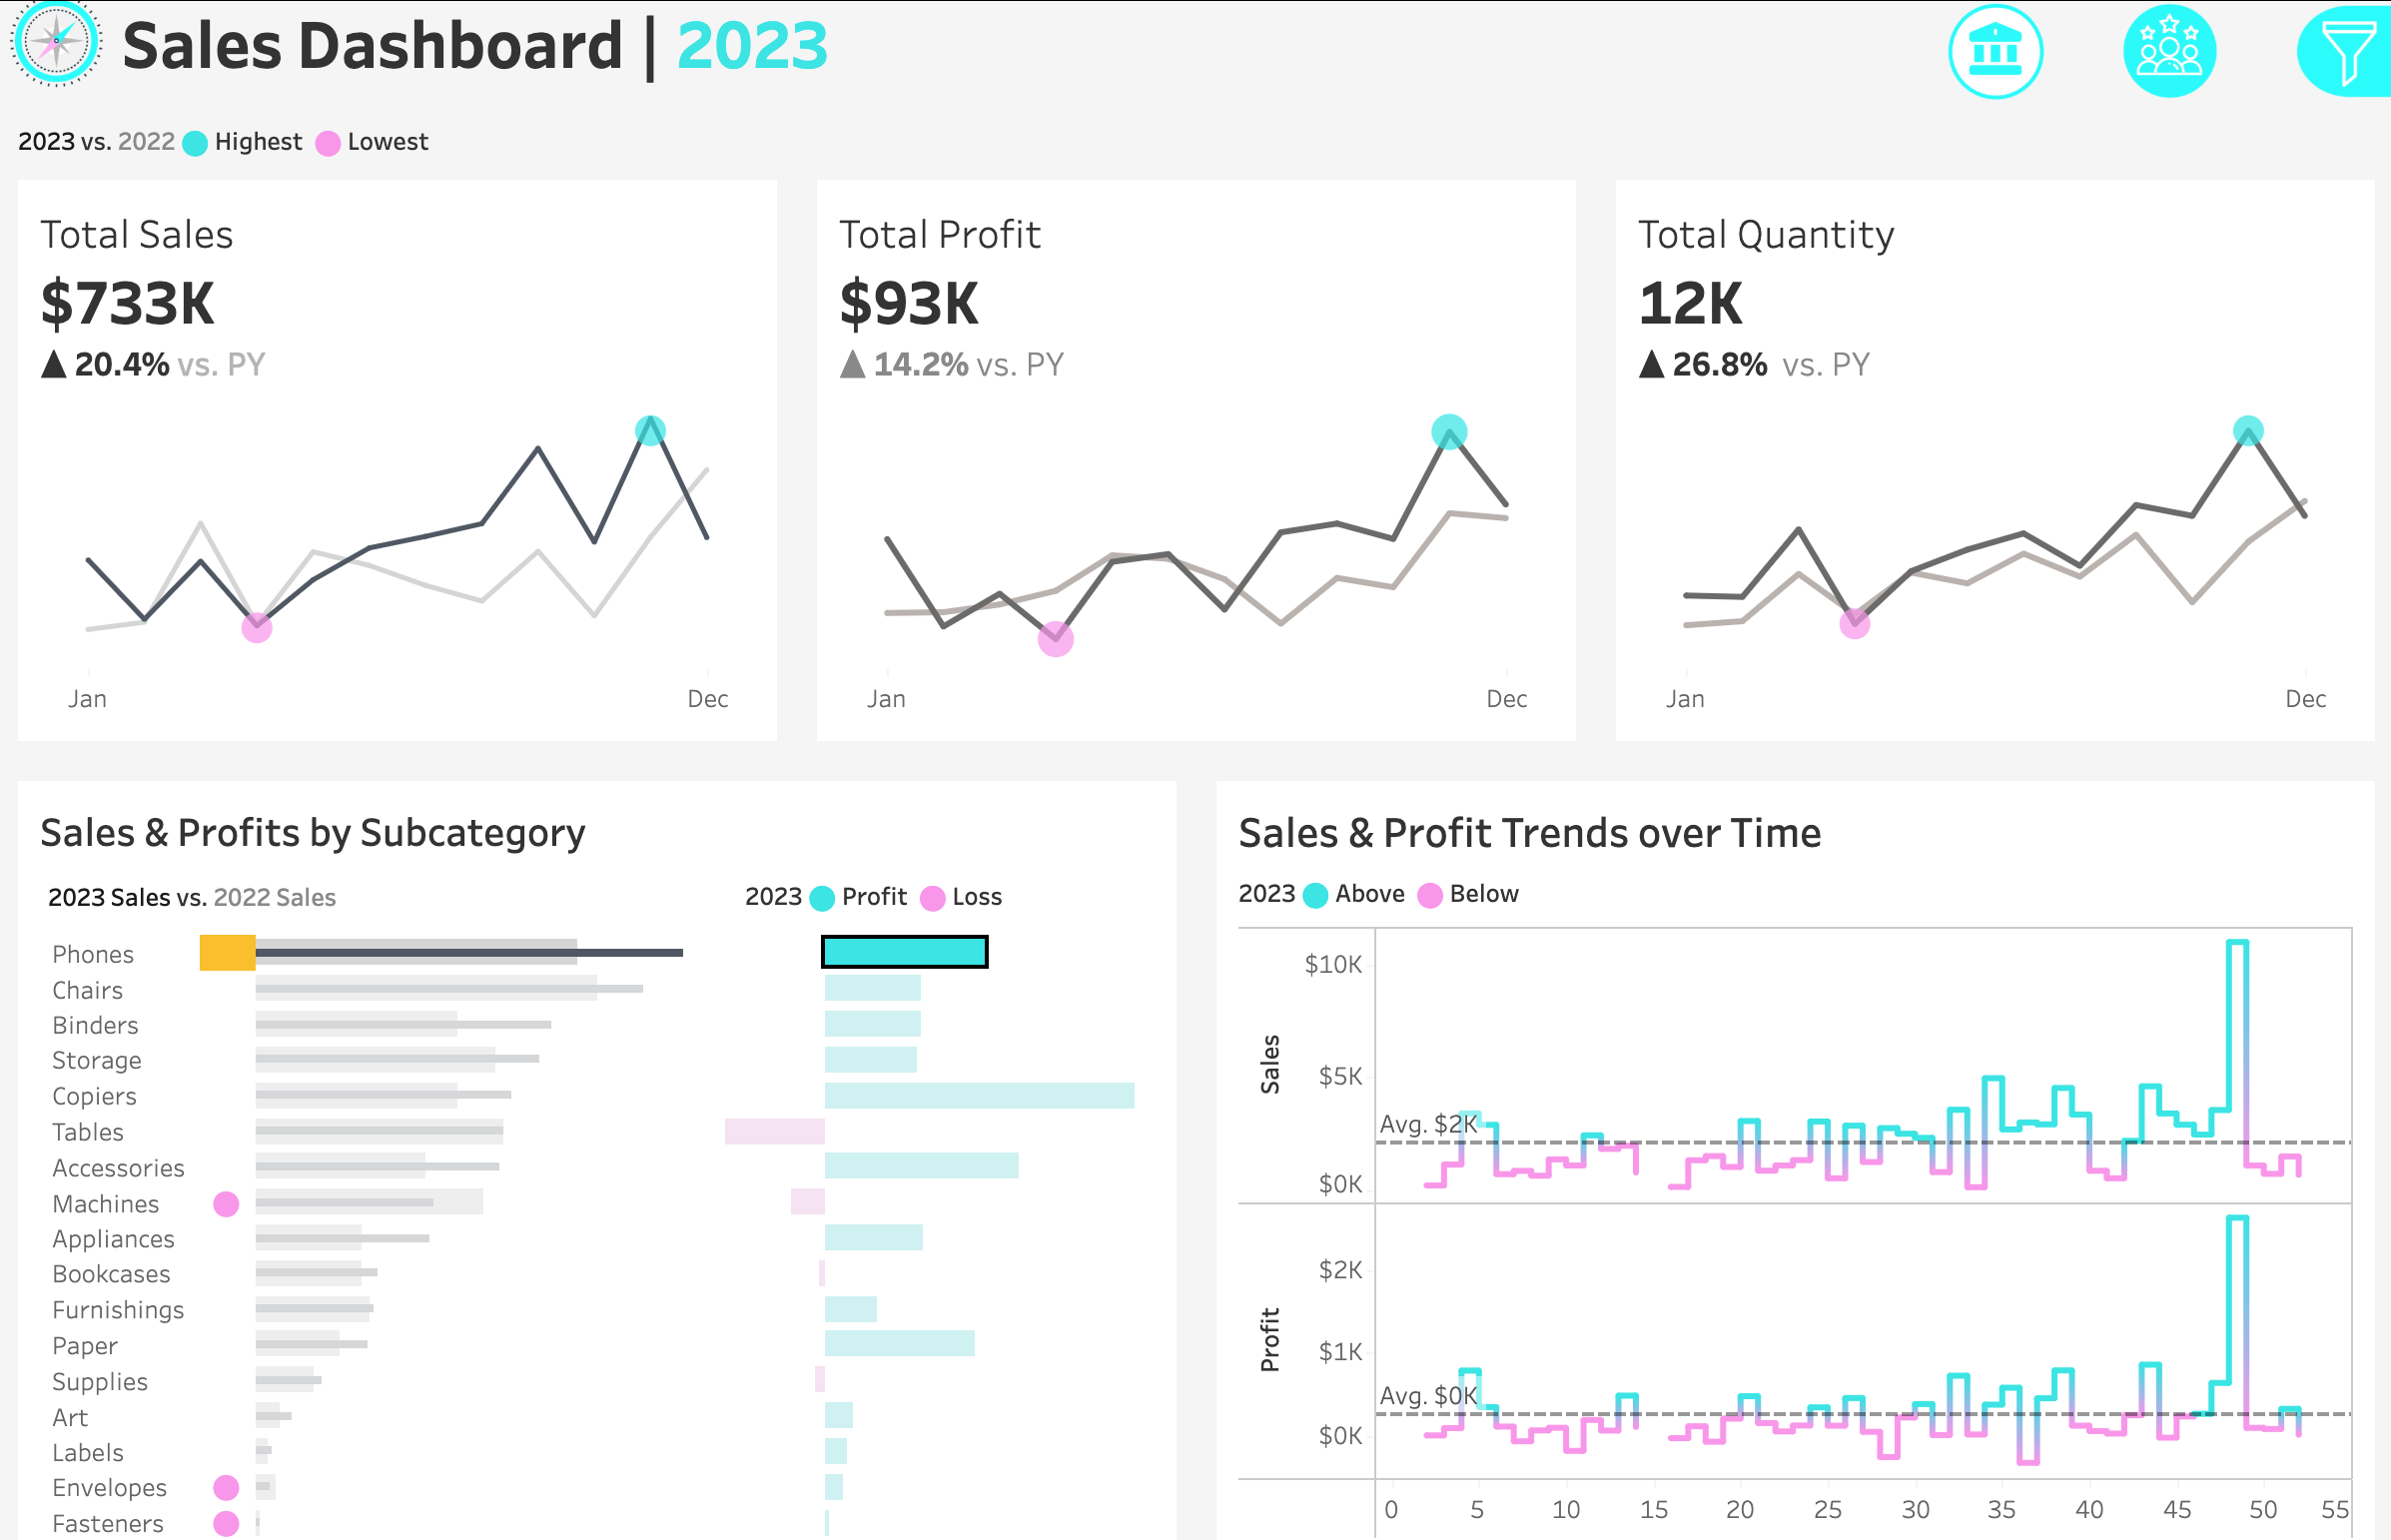

The dashboard page shown, as its layout file describes it:
{"tool":"tableau","page":{"name":"Sales Dashboard","canvas":[1200,800],"ordinal":1},"visuals":[{"type":"image","param":"Image/Icon - Logo.png","box":[0,0,73,59]},{"type":"text","box":[73,0,820,59]},{"type":"dashboard-object","box":[940,6,91,70]},{"type":"dashboard-object","box":[1031,6,91,70]},{"type":"blank","box":[952,10,237,86]},{"type":"worksheet","title":"Legend KPI","mark":"Automatic","box":[0,59,1200,29]},{"type":"worksheet","title":"KPI Sales","mark":"Automatic","rows":["Calculation_721701895347843083"],"cols":["Order Date"],"box":[0,88,400,284]},{"type":"worksheet","title":"KPI Profit","mark":"Automatic","rows":["Min/Max Sales (copy)_237846410425847814"],"cols":["Order Date"],"box":[400,88,400,284]},{"type":"worksheet","title":"KPI Quantity","mark":"Automatic","rows":["Min/Max Sales (copy) (copy)_237846410425856007"],"cols":["Order Date"],"box":[800,88,400,284]},{"type":"text","box":[952,96,237,37]},{"type":"parameter","param":"[Parameters].[Parameter 1]","box":[952,133,237,55]},{"type":"text","box":[952,188,237,32]},{"type":"filter","title":"KPI Sales","param":"[federated.1kpxa041aiai2y1cl4pui1t4eju9].[none:Category:nk]","box":[952,220,237,57]},{"type":"filter","title":"KPI Sales","param":"[federated.1kpxa041aiai2y1cl4pui1t4eju9].[none:Sub-Category:nk]","box":[952,277,237,57]},{"type":"blank","box":[952,334,237,60]},{"type":"text","box":[17,389,566,34]},{"type":"text","box":[617,389,566,34]},{"type":"text","box":[952,394,237,32]},{"type":"worksheet","title":"Legend Subcategory","mark":"Automatic","box":[17,423,374,32]},{"type":"text","box":[391,423,192,32]},{"type":"text","box":[617,423,566,27]},{"type":"filter","title":"KPI Sales","param":"[federated.1kpxa041aiai2y1cl4pui1t4eju9].[none:Region:nk]","box":[952,426,237,57]},{"type":"worksheet","title":"Weekly Trends","mark":"Automatic","rows":["Calculation_721701895334993921","CY Sales (copy)_237846410424180736"],"cols":["Order Date"],"box":[617,450,566,333]},{"type":"worksheet","title":"Subcategory Comparison","mark":"Bar","rows":["Sub-Category","Calculation_2435040078806671369"],"cols":["CY Sales (copy)_721701895335804930","Calculation_721701895334993921","CY Sales (copy)_237846410424180736"],"box":[17,455,566,327.9]},{"type":"filter","title":"KPI Sales","param":"[federated.1kpxa041aiai2y1cl4pui1t4eju9].[none:State:nk]","box":[952,483,237,57]},{"type":"filter","title":"KPI Sales","param":"[federated.1kpxa041aiai2y1cl4pui1t4eju9].[none:City:nk]","box":[952,540,237,57]}]}

Visuals, with their boxes on the page's 1200x800 design canvas (x1, y1, x2, y2). These are canvas units, not pixel positions in the 2391x1540 screenshot, which may show the page scaled, cropped or inside an application window:
image: <bbox>0, 0, 73, 59</bbox>
text: <bbox>73, 0, 893, 59</bbox>
dashboard-object: <bbox>940, 6, 1031, 76</bbox>
dashboard-object: <bbox>1031, 6, 1122, 76</bbox>
blank: <bbox>952, 10, 1189, 96</bbox>
"Legend KPI" worksheet: <bbox>0, 59, 1200, 88</bbox>
"KPI Sales" worksheet: <bbox>0, 88, 400, 372</bbox>
"KPI Profit" worksheet: <bbox>400, 88, 800, 372</bbox>
"KPI Quantity" worksheet: <bbox>800, 88, 1200, 372</bbox>
text: <bbox>952, 96, 1189, 133</bbox>
parameter: <bbox>952, 133, 1189, 188</bbox>
text: <bbox>952, 188, 1189, 220</bbox>
"KPI Sales" filter: <bbox>952, 220, 1189, 277</bbox>
"KPI Sales" filter: <bbox>952, 277, 1189, 334</bbox>
blank: <bbox>952, 334, 1189, 394</bbox>
text: <bbox>17, 389, 583, 423</bbox>
text: <bbox>617, 389, 1183, 423</bbox>
text: <bbox>952, 394, 1189, 426</bbox>
"Legend Subcategory" worksheet: <bbox>17, 423, 391, 455</bbox>
text: <bbox>391, 423, 583, 455</bbox>
text: <bbox>617, 423, 1183, 450</bbox>
"KPI Sales" filter: <bbox>952, 426, 1189, 483</bbox>
"Weekly Trends" worksheet: <bbox>617, 450, 1183, 783</bbox>
"Subcategory Comparison" worksheet (Bar marks): <bbox>17, 455, 583, 783</bbox>
"KPI Sales" filter: <bbox>952, 483, 1189, 540</bbox>
"KPI Sales" filter: <bbox>952, 540, 1189, 597</bbox>
